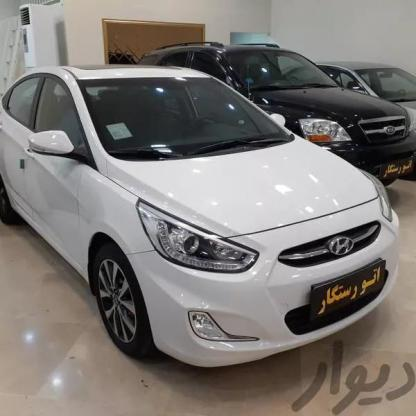Car: (0, 68, 410, 372), (130, 26, 416, 178)
